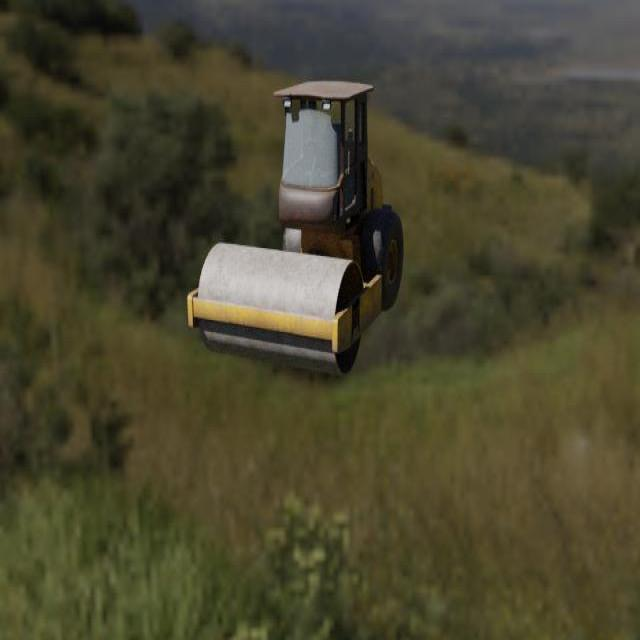Roller: (187, 80, 404, 376)
